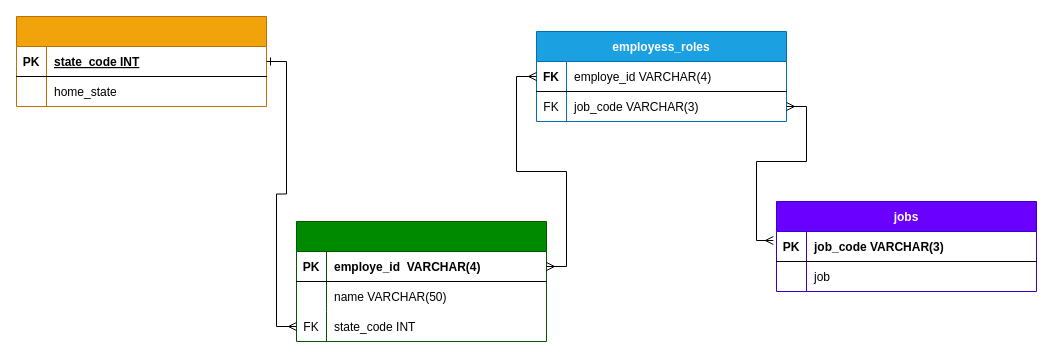
This 1053x358 diagram has some shape labels left out. Here are the shapes that lost their labels. From the top down, the box of each, then its label:
(16, 16, 266, 106): states
(296, 220, 546, 342): employess
